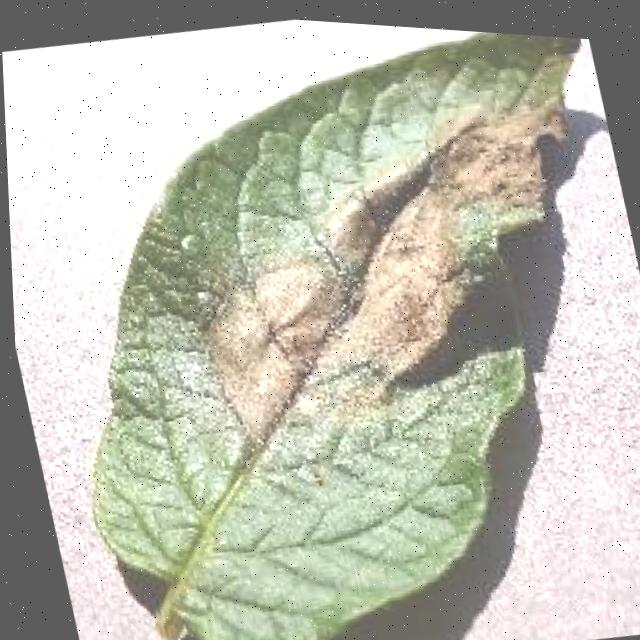Late_blight: (161, 68, 629, 451)
